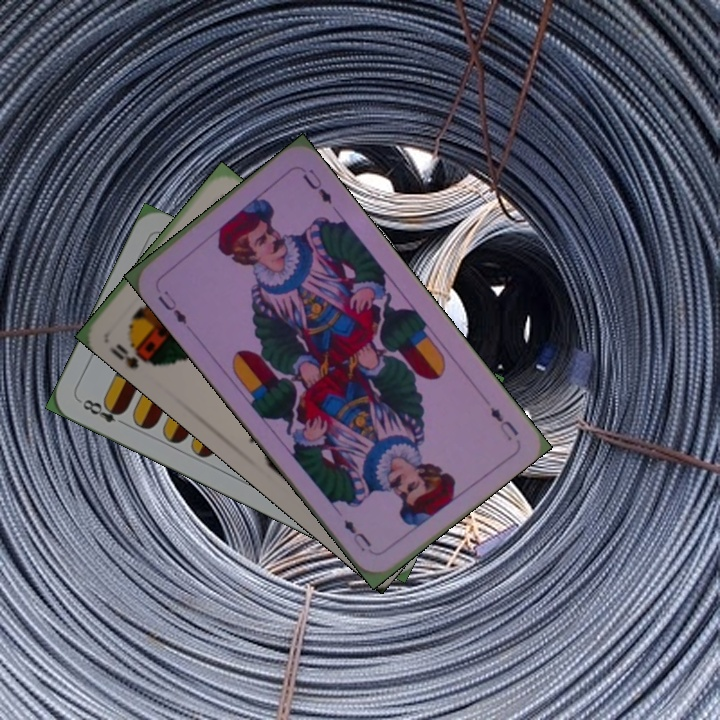E8: (78, 395, 130, 429)
EU: (151, 281, 190, 328), (486, 403, 521, 444)
SO: (104, 338, 160, 372)
